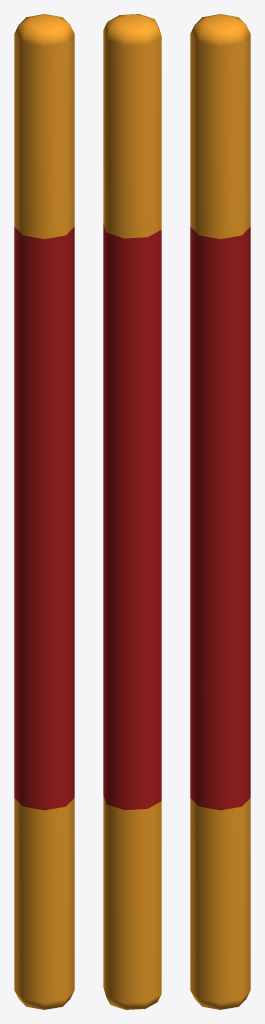
File: sgk.fbx
3 renders of one model, left to right at view 1: azimuth 90°, elevation 25°; view 2: azimuth 210°, elevation 25°; view 3: azimuth 270°, elevation 25°, orthographic.
Parts seen in each view (by area): view 1: sgk_Cylinder; view 2: sgk_Cylinder; view 3: sgk_Cylinder.
Part boxes in pixels (x1,y1,x2,y2): sgk_Cylinder: (14, 14, 74, 1009); sgk_Cylinder: (103, 14, 161, 1009); sgk_Cylinder: (190, 14, 250, 1009).
Bounding box in the file's own units: 11.96 × 214 × 11.96.
